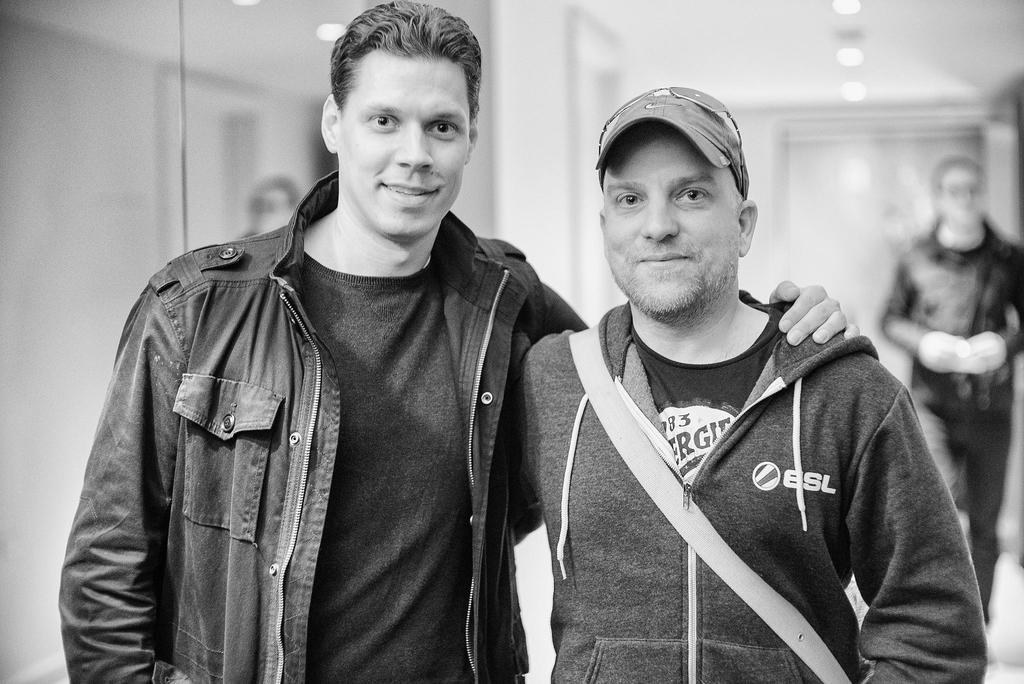Human_hand: (761, 281, 856, 358), (956, 329, 1005, 373), (917, 330, 958, 373)
